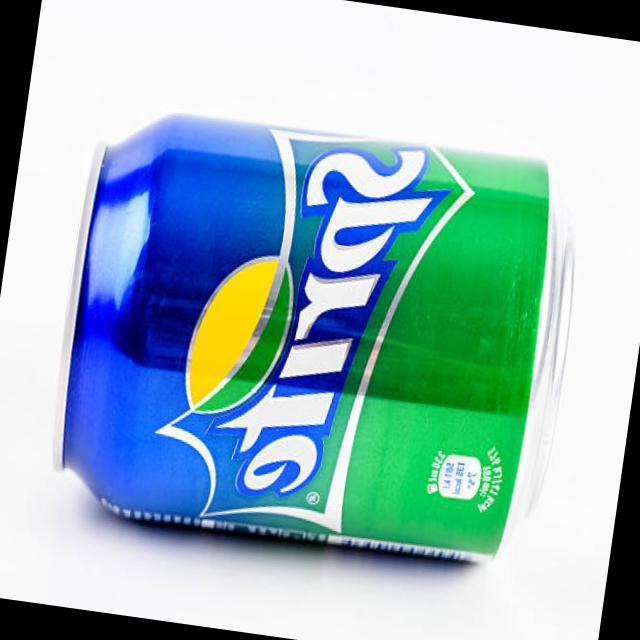sprite: (29, 68, 612, 607)
